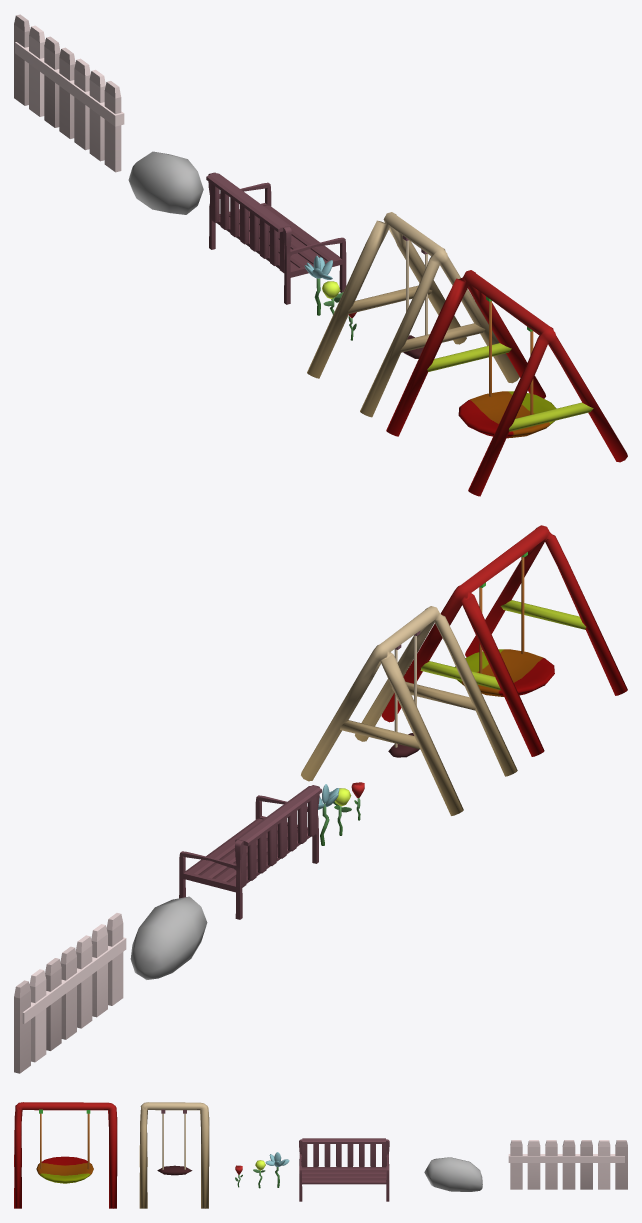
The model's file is Park_Objects.fbx.
3 views of the same model, one above another, from view 1: azimuth 30°, elevation 25°; view 2: azimuth 150°, elevation 25°; view 3: azimuth 270°, elevation 25° (orthographic). The views are drawn at different scales.
Visible parts, largest first — view 1: Cube.031, Cube.037, Cube.044, Cube.041, Cube.035; view 2: Cube.031, Cube.037, Cube.044, Cube.041, Cube.035; view 3: Cube.044, Cube.031, Cube.041, Cube.037, Cube.035, Cylinder.025.
Part boxes in pixels (x1,y1,x2,y2): Cube.031: (386, 270, 627, 496); Cube.037: (307, 212, 519, 417); Cube.044: (14, 14, 124, 172); Cube.041: (206, 172, 346, 304); Cube.035: (128, 151, 203, 214); Cube.031: (381, 525, 627, 756); Cube.037: (301, 606, 517, 815); Cube.044: (14, 913, 126, 1073); Cube.041: (179, 785, 321, 919); Cube.035: (130, 896, 207, 979); Cube.044: (508, 1140, 627, 1189); Cube.031: (14, 1102, 117, 1208); Cube.041: (299, 1138, 389, 1201); Cube.037: (139, 1102, 209, 1208); Cube.035: (424, 1157, 482, 1191); Cylinder.025: (265, 1152, 289, 1187).
Size of the model in its own units: 261 by 246 by 1508.
10 materials, 10 textured.
